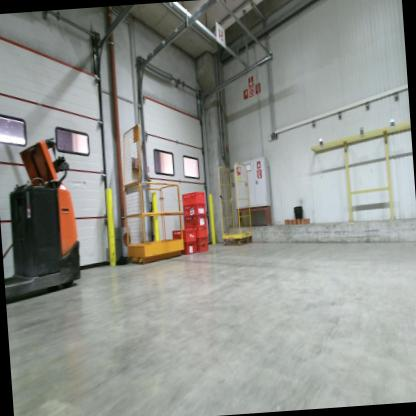pallet_truck: (0, 132, 86, 306)
small_load_carrier: (171, 225, 198, 246), (181, 189, 208, 206), (182, 200, 207, 216), (184, 213, 208, 229), (185, 226, 209, 241), (178, 242, 200, 257), (197, 235, 210, 248), (196, 243, 209, 253)
